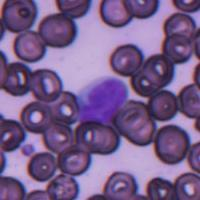M: (76, 75, 128, 124)
